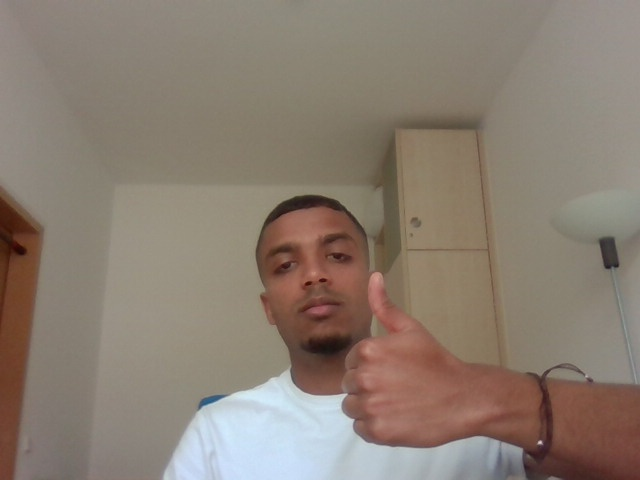yes: (335, 266, 496, 466)
